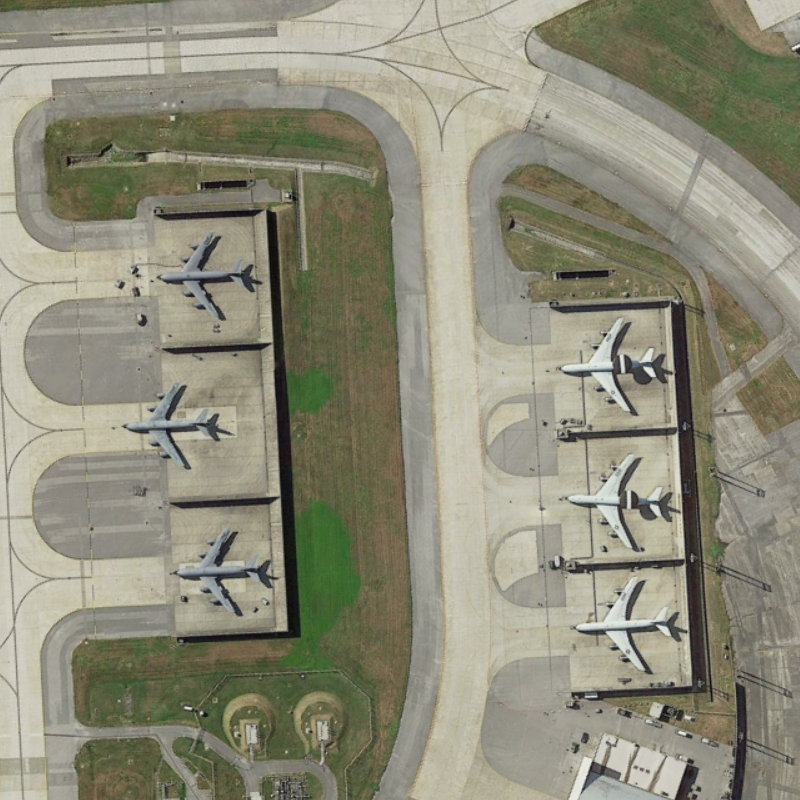A11: (563, 572, 681, 679)
A14: (165, 517, 273, 619), (113, 379, 224, 474), (154, 230, 259, 325)
A7: (549, 311, 669, 422), (558, 447, 674, 555)
